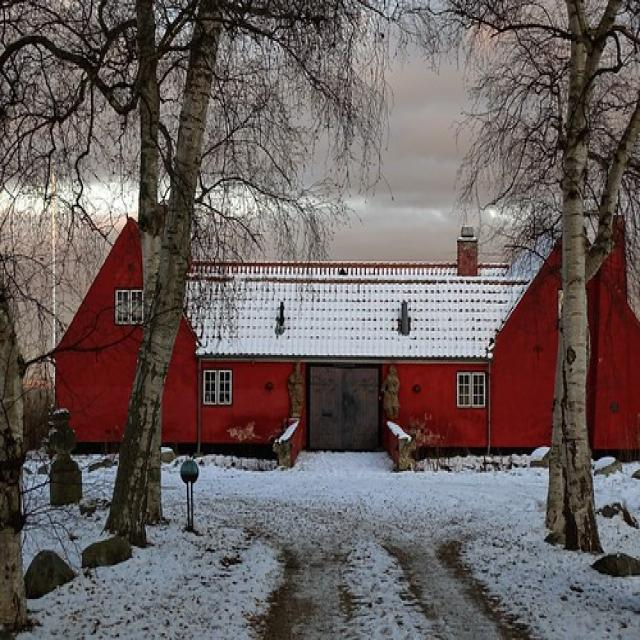building: (45, 208, 640, 478)
